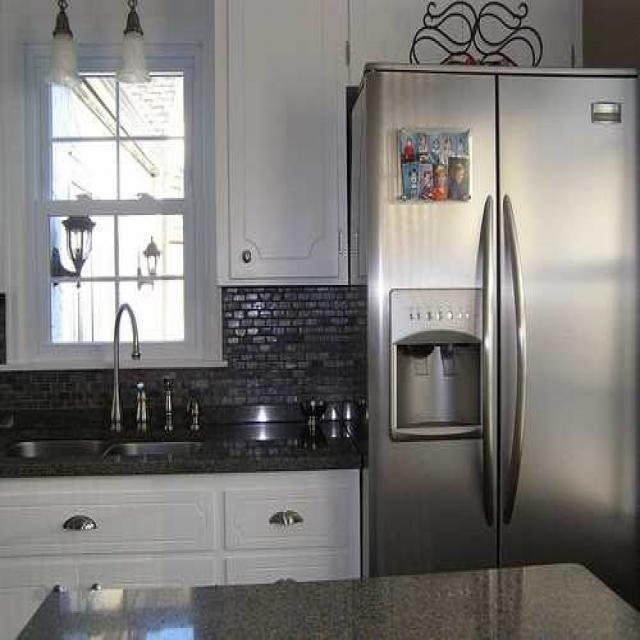refrigerator: (363, 61, 640, 568)
